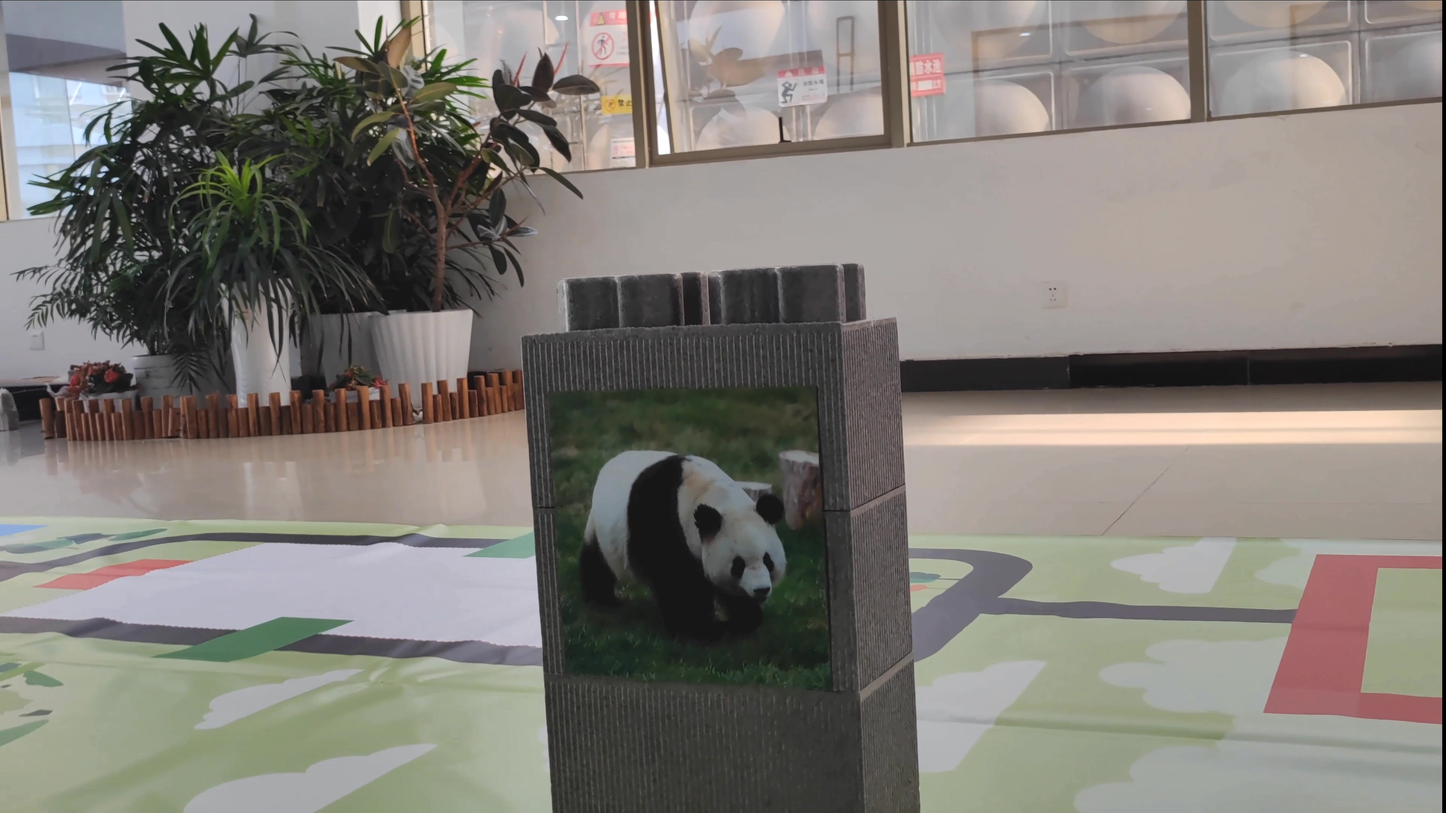panda: (554, 394, 822, 675)
